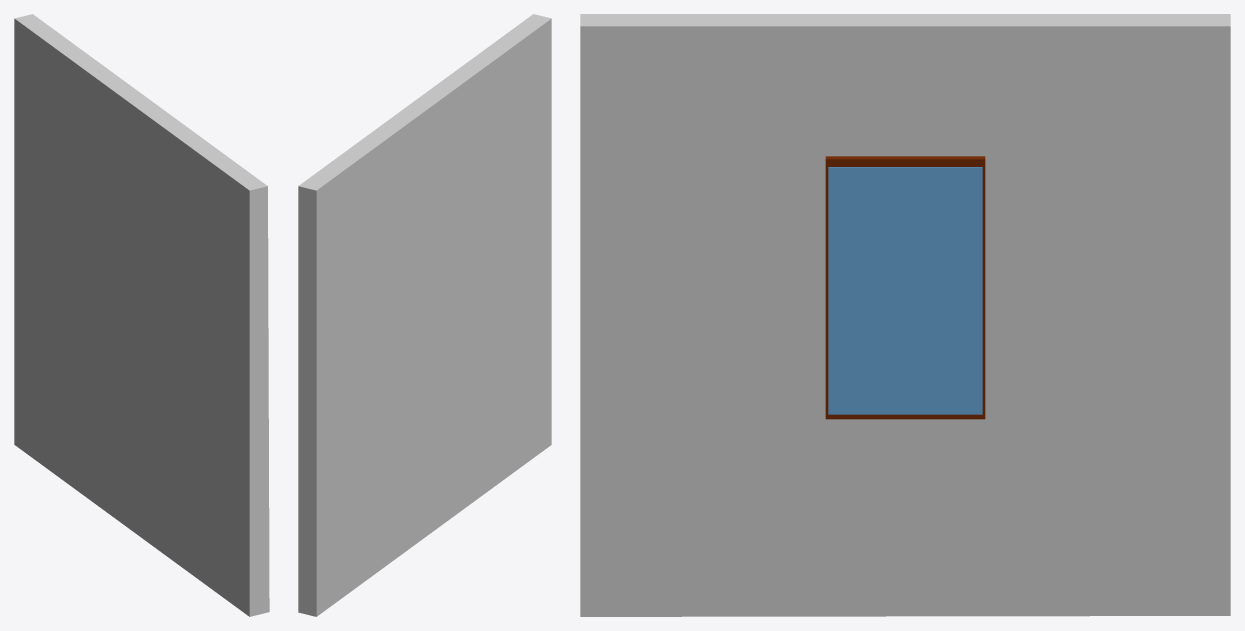
File: window4.fbx
3 renders of one model, left to right at view 1: azimuth 30°, elevation 25°; view 2: azimuth 150°, elevation 25°; view 3: azimuth 270°, elevation 25°, orthographic. The views are drawn at different scales.
Visible parts, largest first — view 1: Cube.010; view 2: Cube.010; view 3: Cube.010, Cube, Cube.001.
Part boxes in pixels (x1,y1,x2,y2): Cube.010: (14, 14, 269, 616); Cube.010: (298, 14, 551, 616); Cube.010: (580, 14, 1230, 616); Cube: (828, 167, 982, 414); Cube.001: (825, 156, 985, 419).
Size of the model in its own units: 11.46 by 200 by 200.
